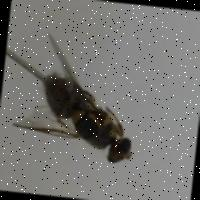Oriental-fruit-fly: (5, 39, 150, 174)
